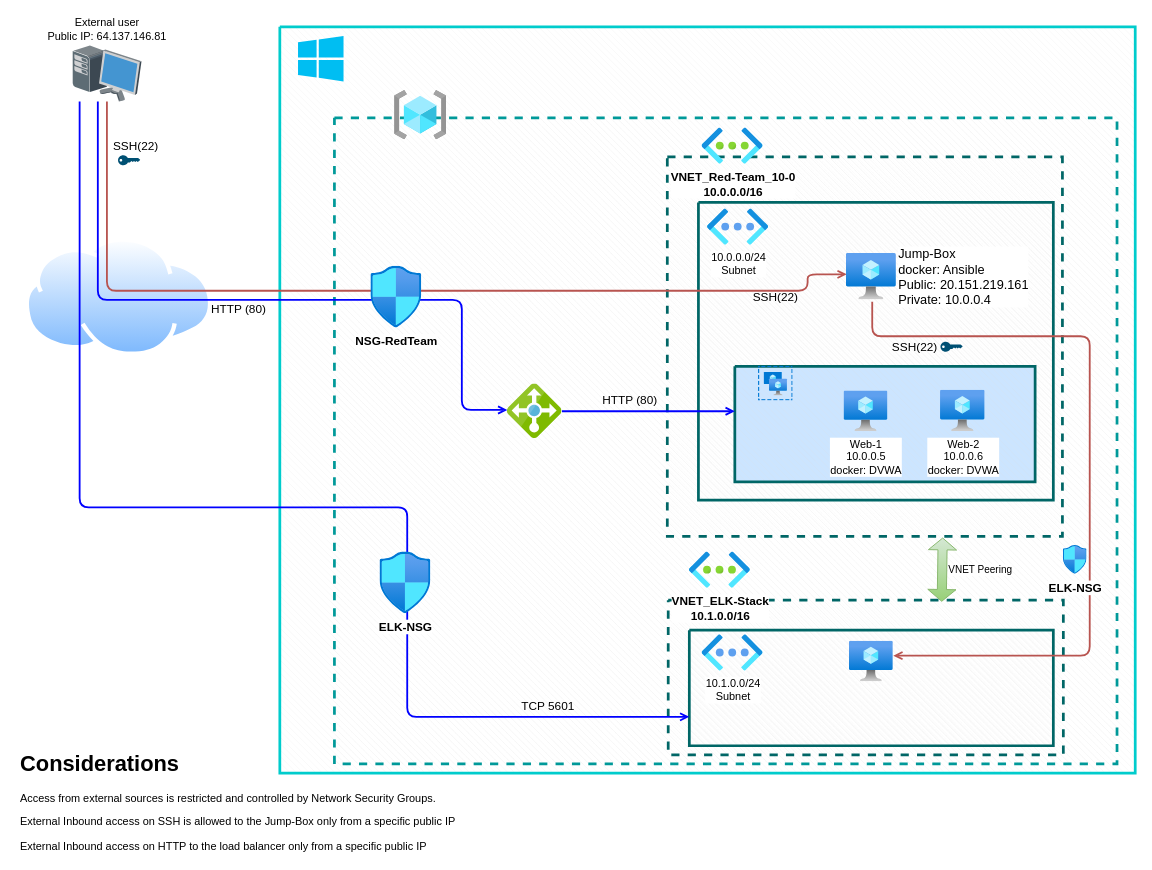
This 1152x870 diagram has some shape labels left out. Here are the shapes that lost their labels. From the top down, the centre of each, then its label:
At [320,58]: "AZURE".
At [420,114]: "Resource group RG-Red-Team".
At [118,297]: "INTERNET".
At [775,383]: "Availability Set Web-RedTeam".
At [534,410]: "Load Balancer LB-Red-Team 20.48.254.236".
At [871,661]: "ELK docker: ELK Private: 10.1.0.4 Public: 13.68.173.238".
